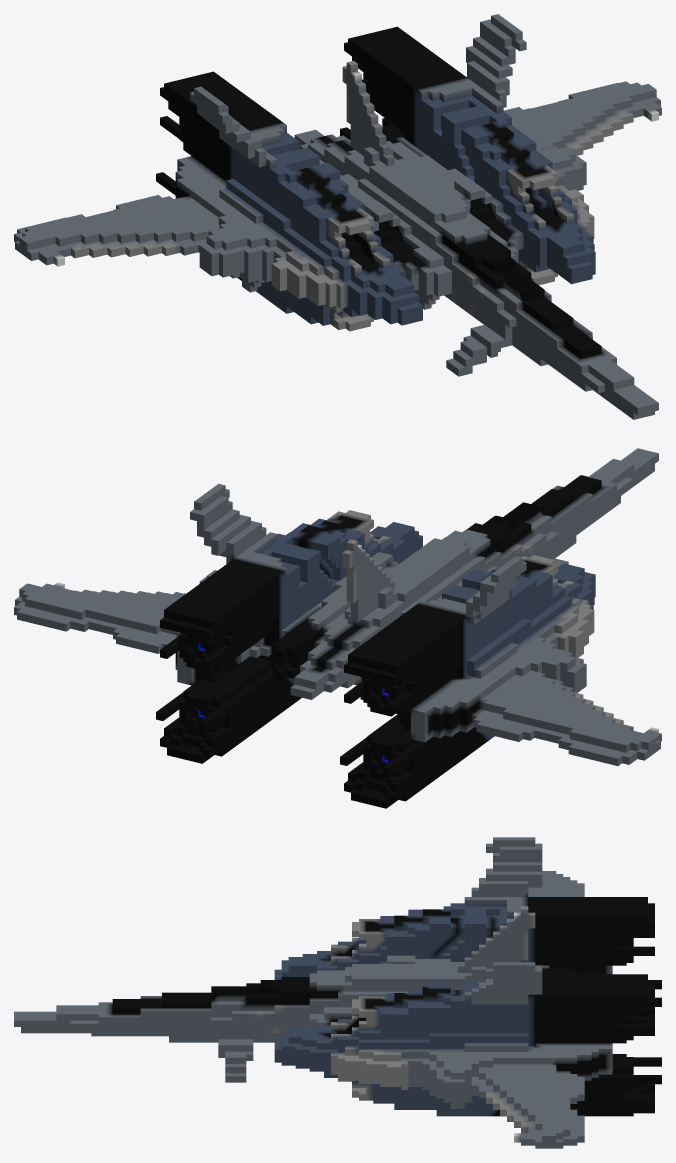
The model's file is spaceship3.obj.
3 views of the same model, one above another, from view 1: azimuth 30°, elevation 25°; view 2: azimuth 150°, elevation 25°; view 3: azimuth 270°, elevation 25° (orthographic). The views are drawn at different scales.
Size of the model in its own units: 8.9 by 2.6 by 9.2.
